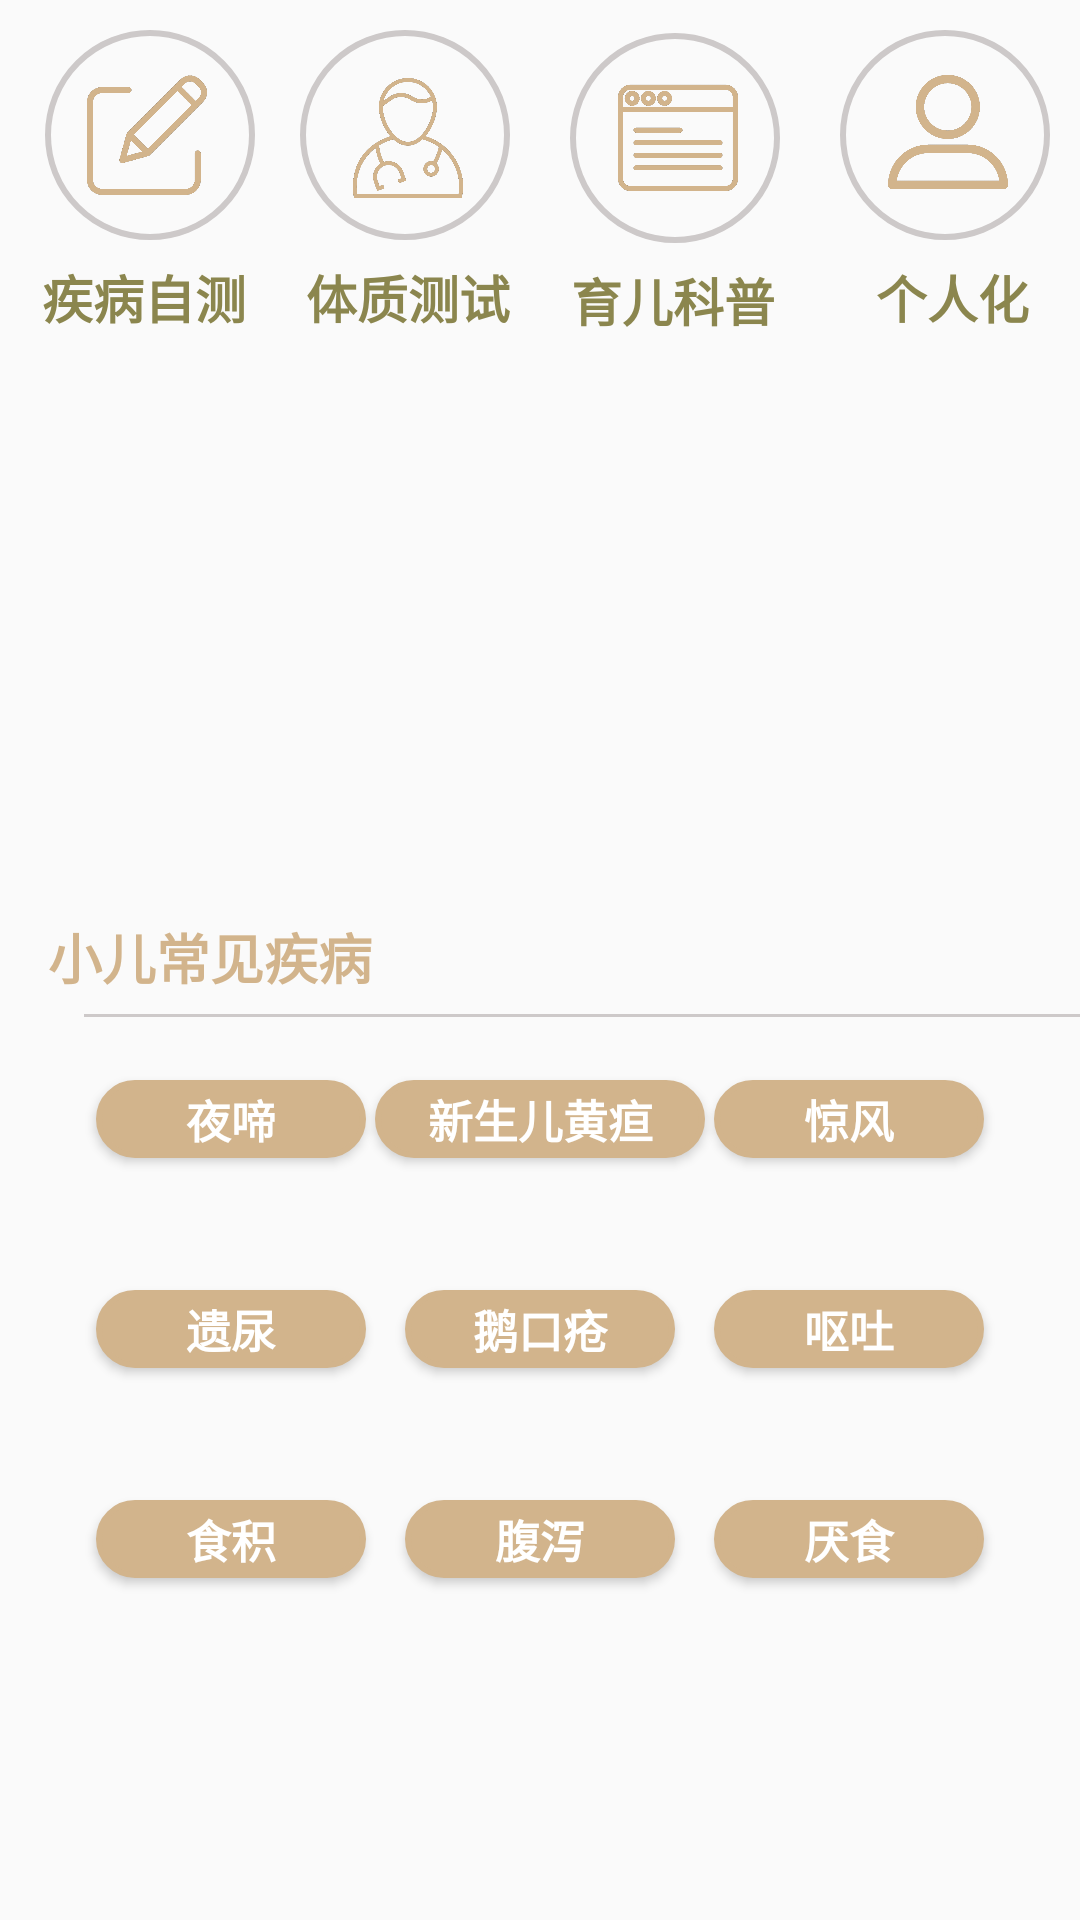

Named icons in this screenshot (1080w x 1920h) and their centers, [x,y]:
doctor: [408,138]
edit: [147,135]
profile: [948,132]
